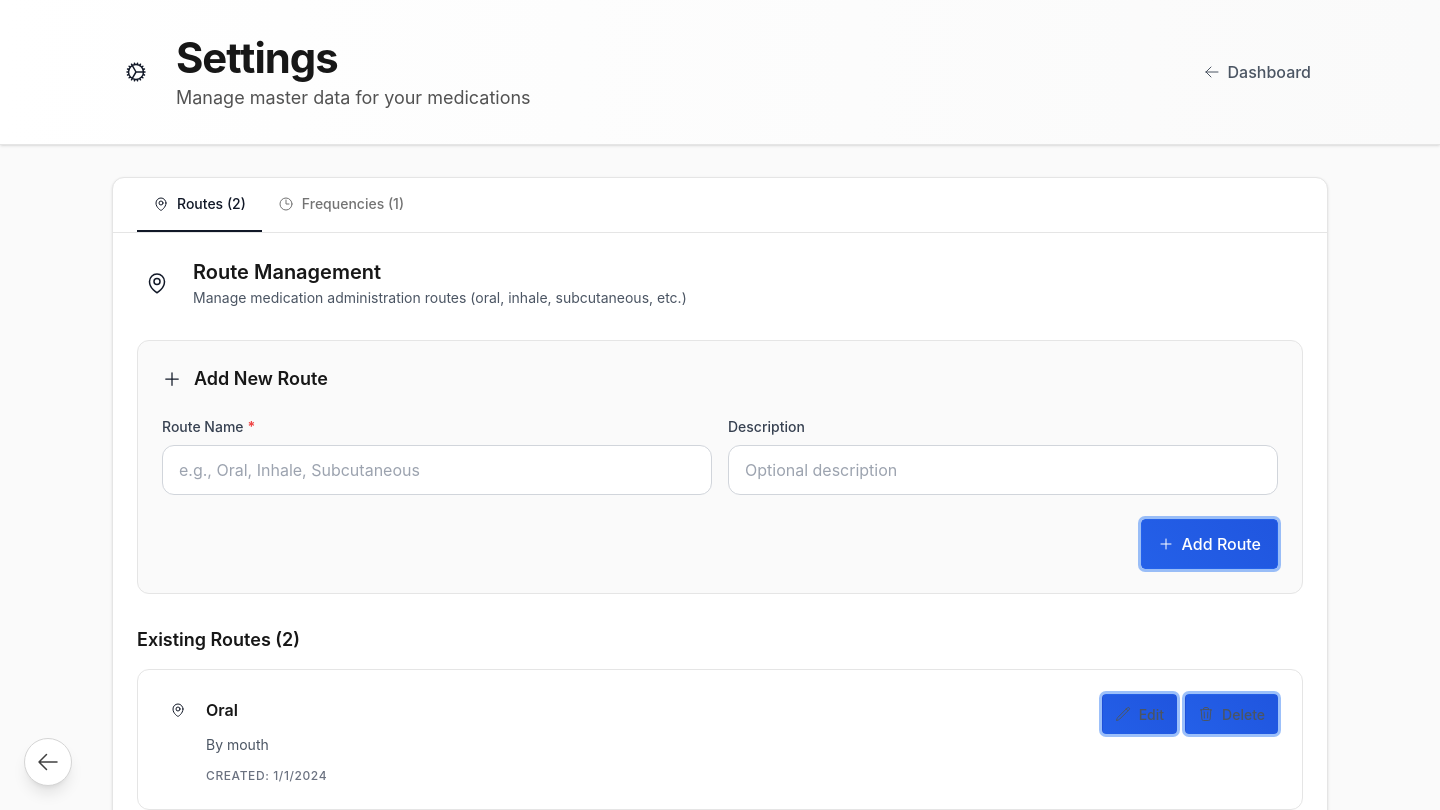
Settings Component › Route Management › edits existing route
This screenshot has width=1440, height=810.
Check: the heading "Oral" is shown, box [206,698,238,722]
# Click edit button for first route
Click the button "Edit" at point(1139, 714), box [1102,694,1177,734]
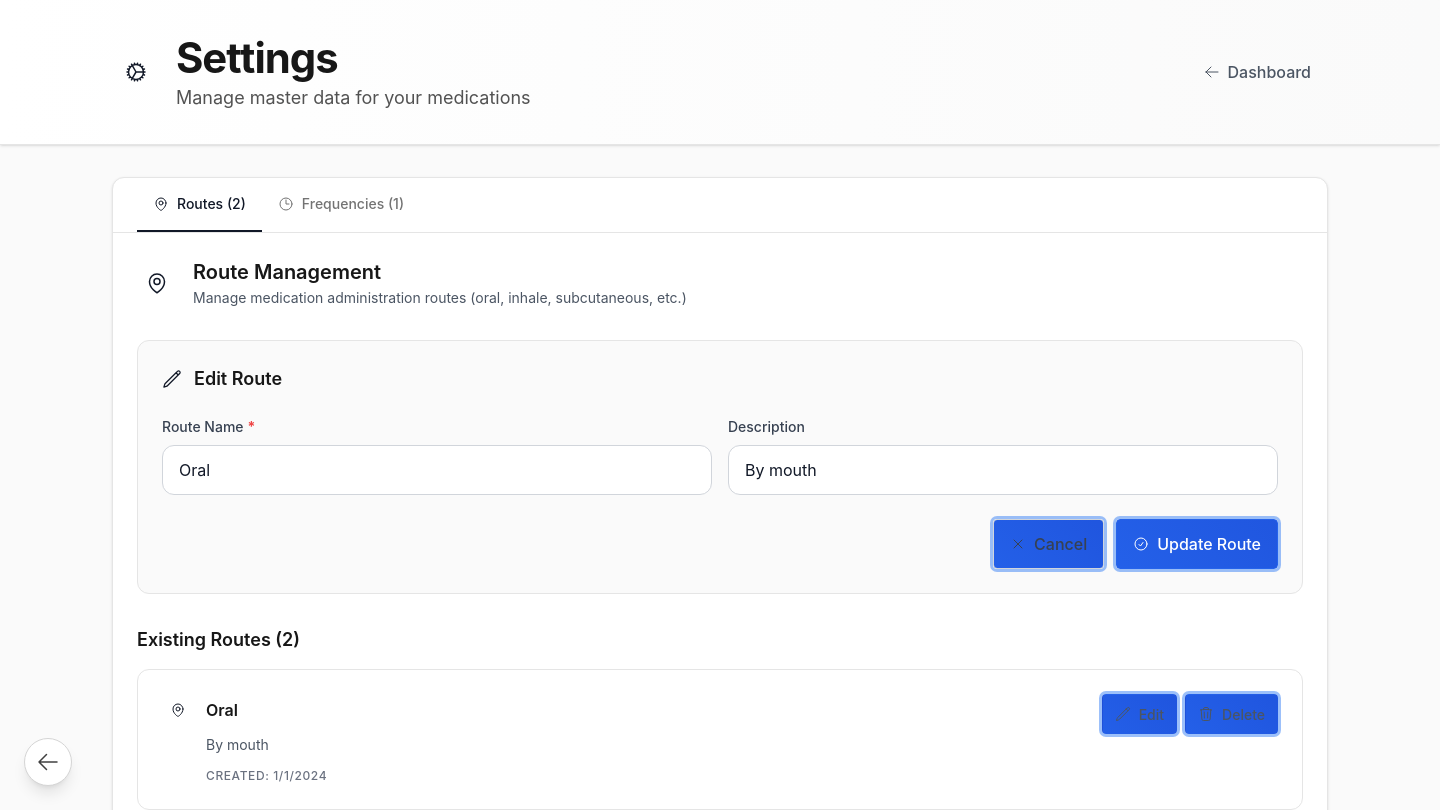
Check: the field showing "Oral" is shown, box [162,445,712,495]
Check: the heading "Edit Route" is shown, box [194,365,282,392]
Check: the field showing "By mouth" is shown, box [728,445,1278,495]
